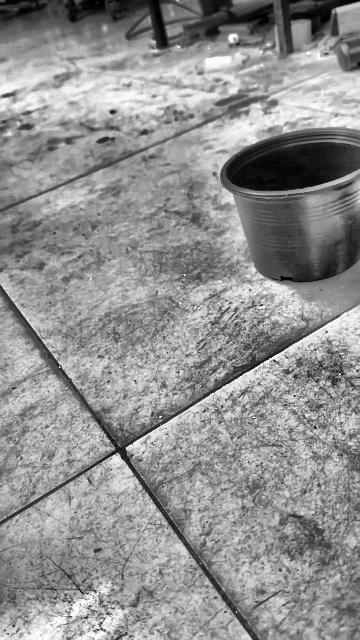pot: (221, 127, 360, 282)
